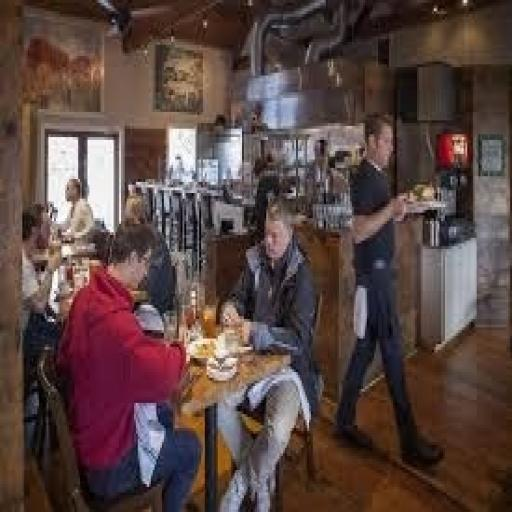eating: (54, 216, 203, 510), (329, 109, 447, 473), (214, 193, 320, 509)
